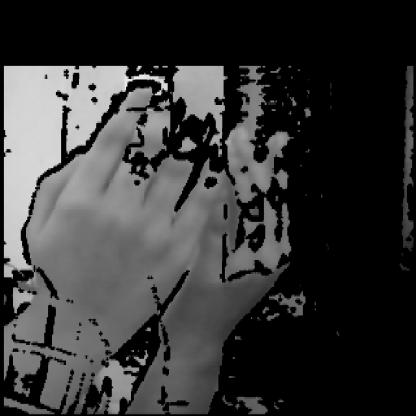dua: (13, 73, 303, 414)
